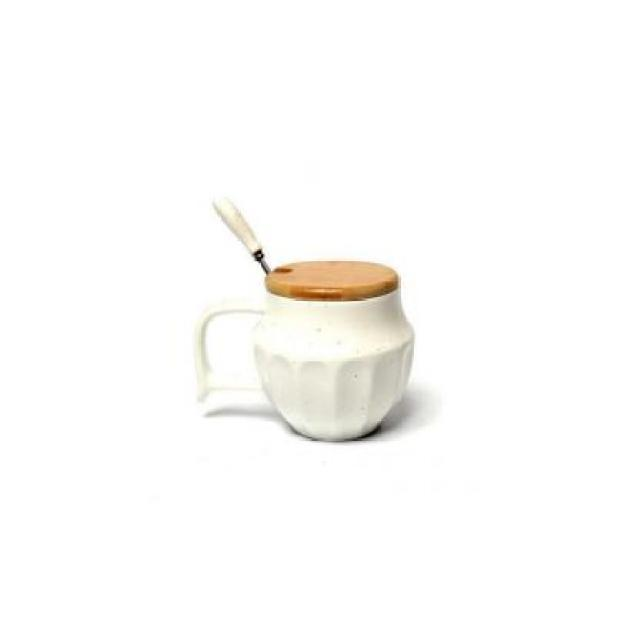taza: (185, 246, 424, 448)
